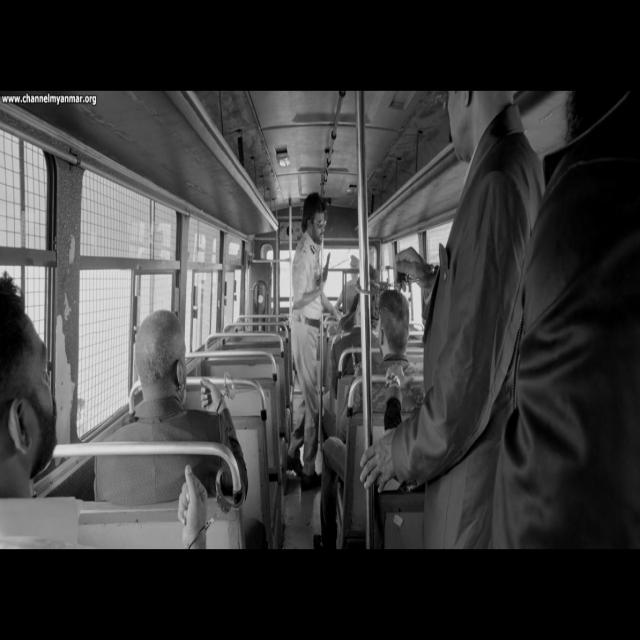gun: (317, 252, 331, 284)
